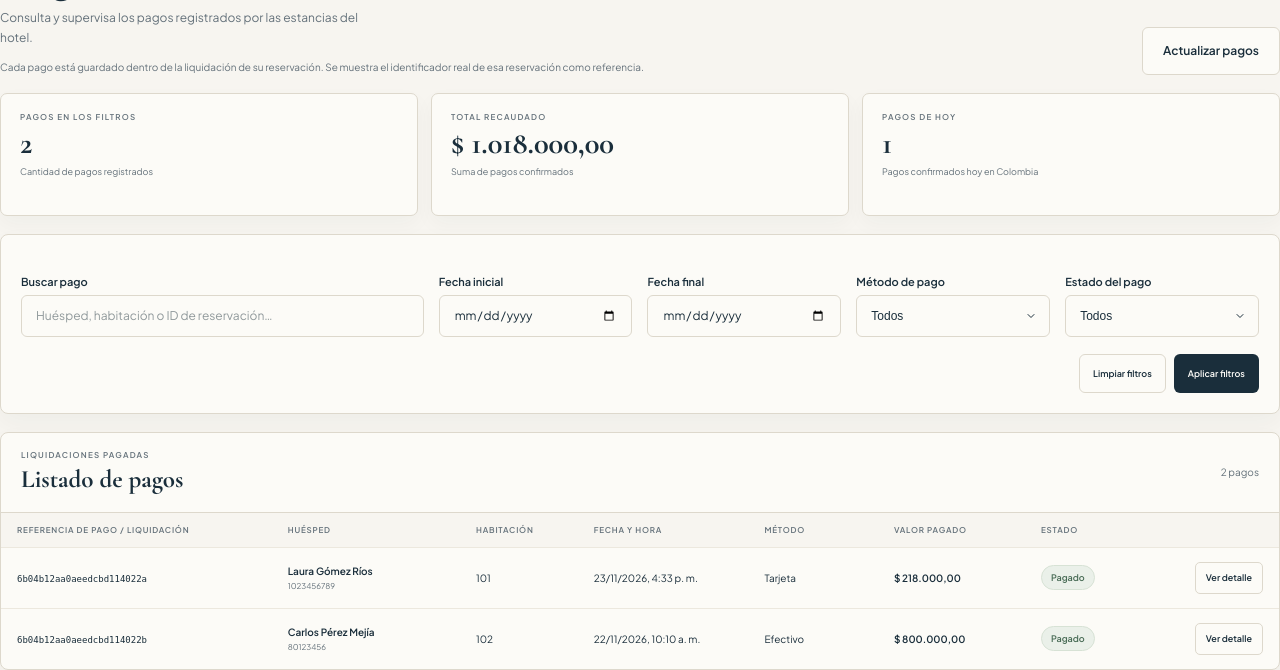
Test: PaymentsPage › informa si no se puede cargar el detalle del pago
(page scrolled)
Expected: the text "Laura Gómez Ríos" is shown, [288, 565, 373, 577]
Click the button "Ver detalle" in the row of "6b04b12aa0aeedcbd114022b". click: click(1229, 639)
box: [1195, 623, 1263, 655]
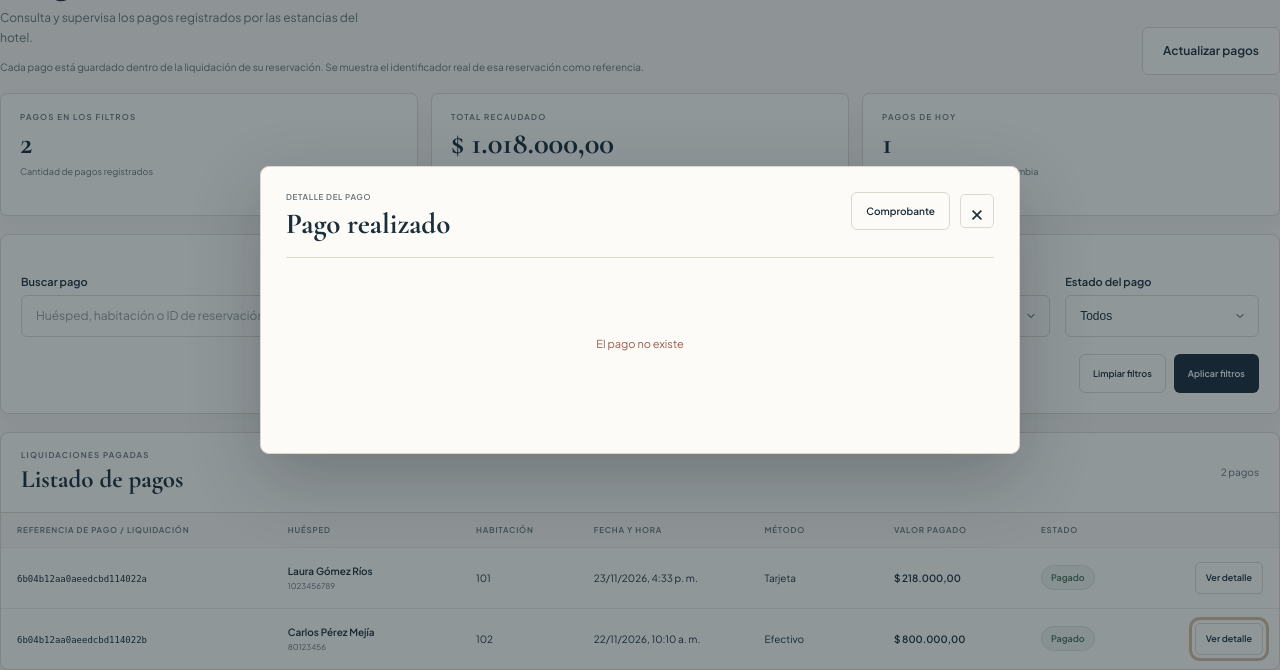
Expected: the message reads "El pago no existe", [596, 337, 684, 350]
